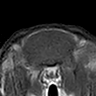Brain: (25, 31, 74, 63)
